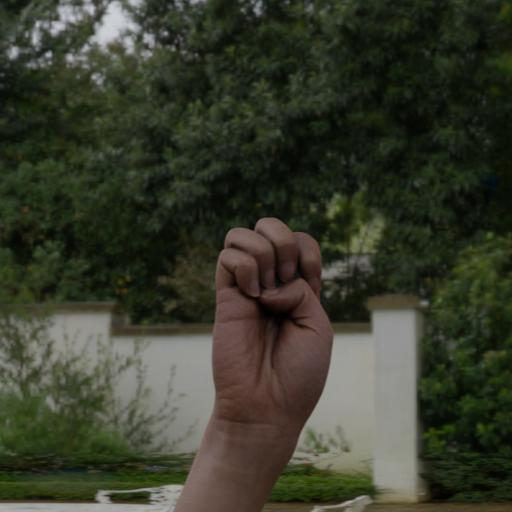E: (199, 210, 343, 467)
